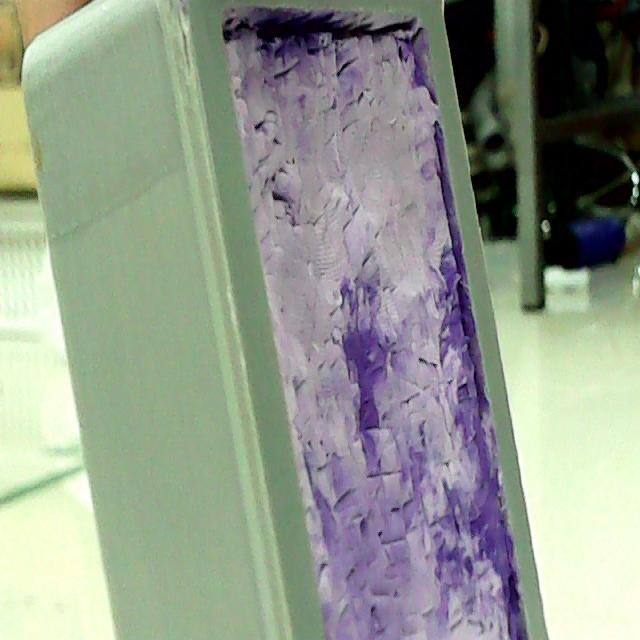block: (19, 4, 561, 638)
